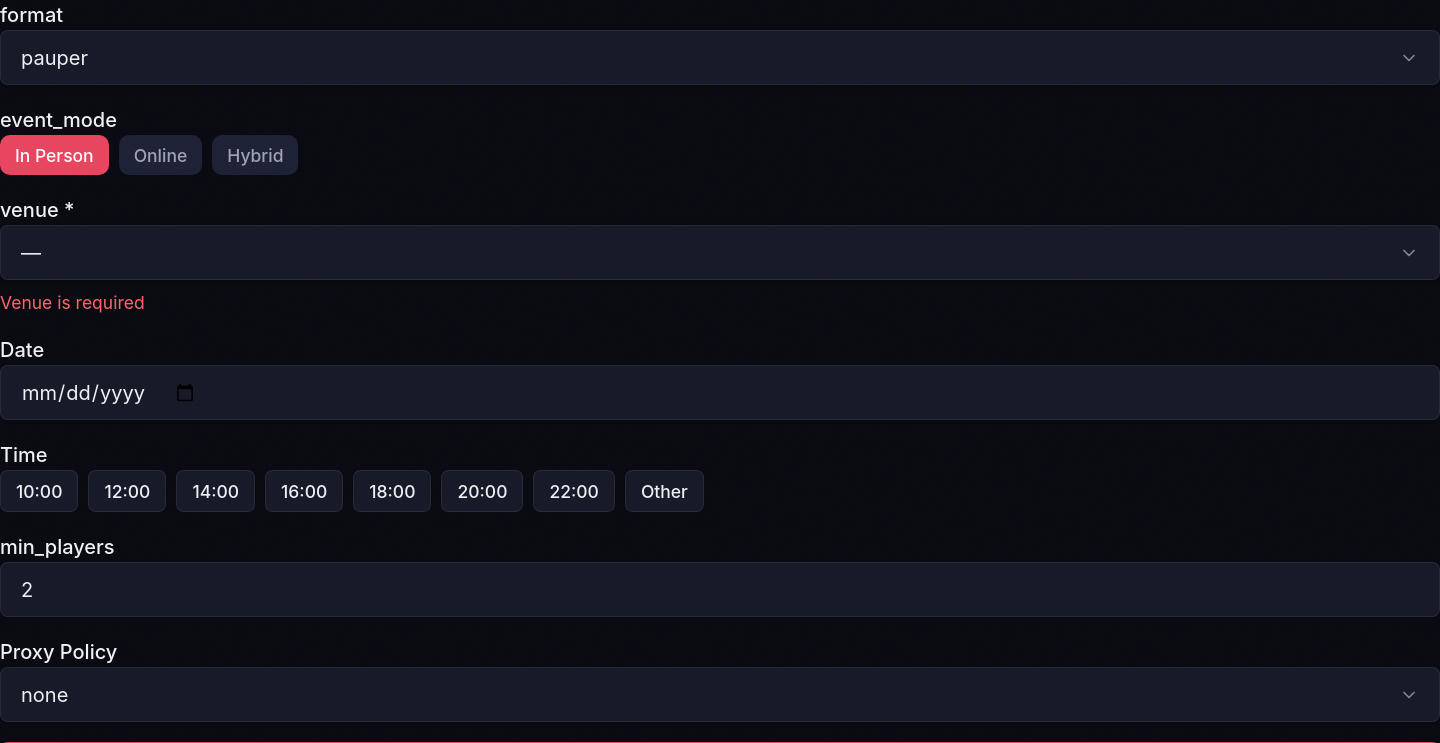
Test case: QuickMeetupForm — comprehensive › online platform fields › shows platform select in hybrid mode
What coordinates should you click on to do the following:
click the button "Hybrid"
I would click on:
 (255, 155)
Its box is [212, 135, 298, 175].
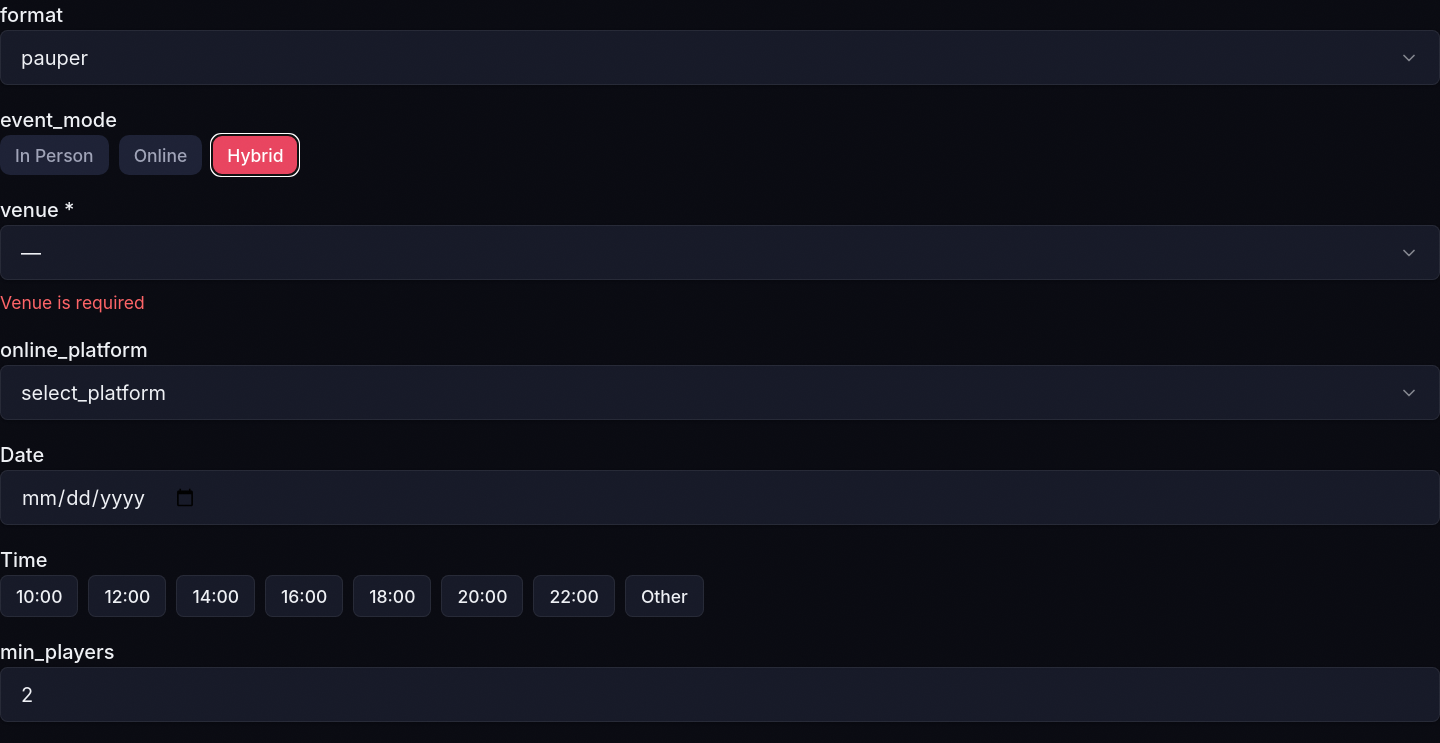
Now the text "online_platform" is shown, box [0, 338, 148, 362]
